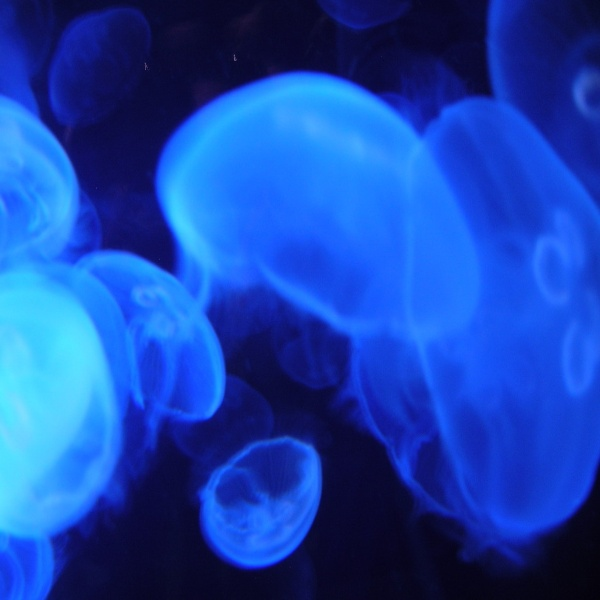Jellyfish: (0, 0, 599, 599), (9, 257, 231, 531)
